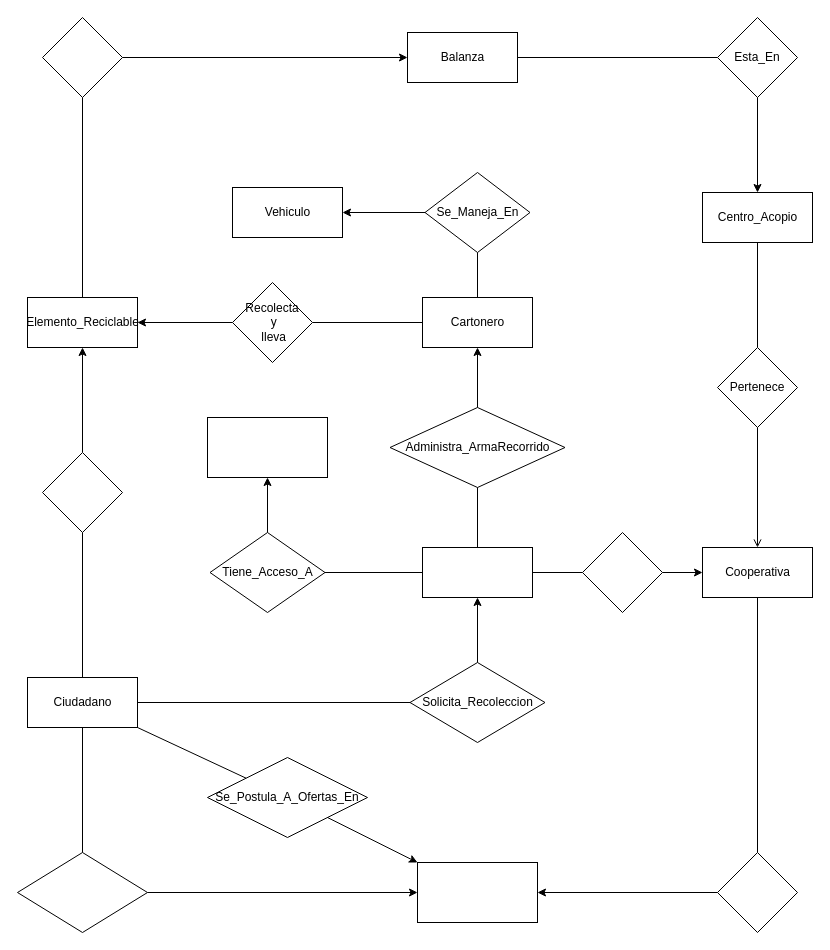
The diagram is 830 pixels wide and 950 high, and some of its shapes have lost their labels. The shapes that lost their labels are listed below. From the top down, each one's box as (x1, y1, x2, y2) in pixels, then its label:
(42, 16, 122, 98): Pesa_En
(206, 416, 328, 478): Base_De_Datos
(42, 452, 122, 532): Recicla y lleva
(422, 546, 532, 598): Secretaria
(582, 532, 662, 612): Trabaja
(16, 852, 148, 932): Publica_Ofertas_En
(416, 862, 538, 922): Pagina
(716, 852, 798, 932): Posee_Una
